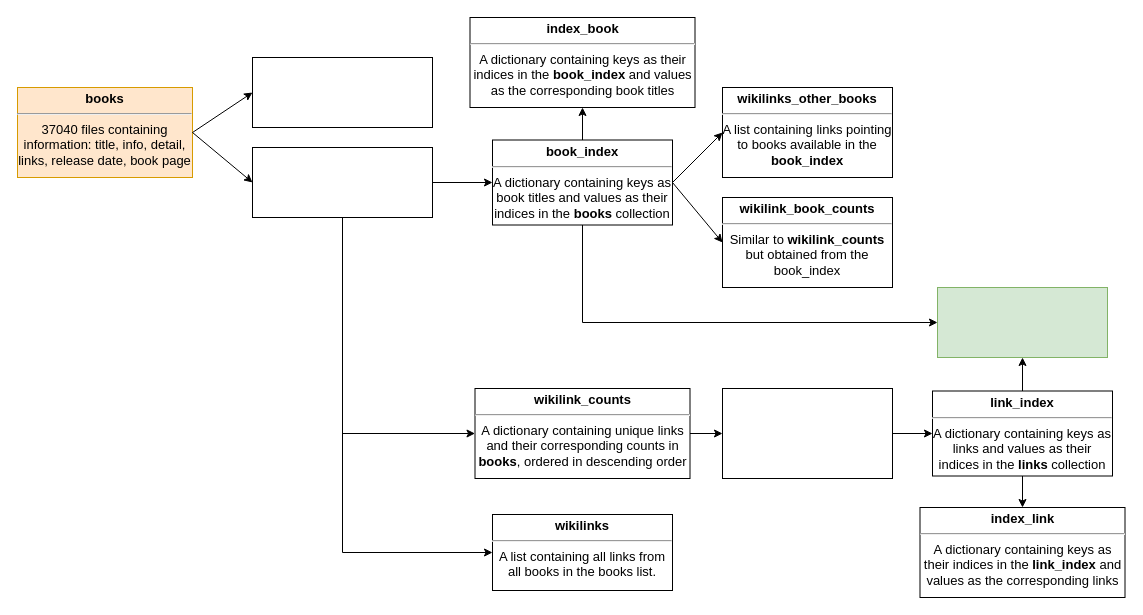
This 1143x615 diagram has some shape labels left out. Each missing label, with the centre of its shape:
"books 37020 files of books with titles not starting with 'Wikipedia:'" belongs at [342,182].
"books_with_wikipedia 20 files of books with titles starting with 'Wikipedia:'" belongs at [342,92].
"links A list of links that appear four times or more from the unique_wikilinks" belongs at [807,433].
"pairs A list containing pairs of book indices and links" belongs at [1022,322].
